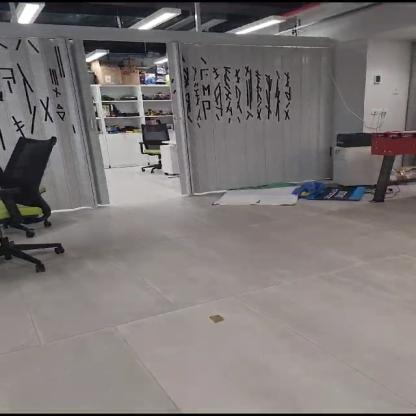open: (80, 42, 182, 197)
